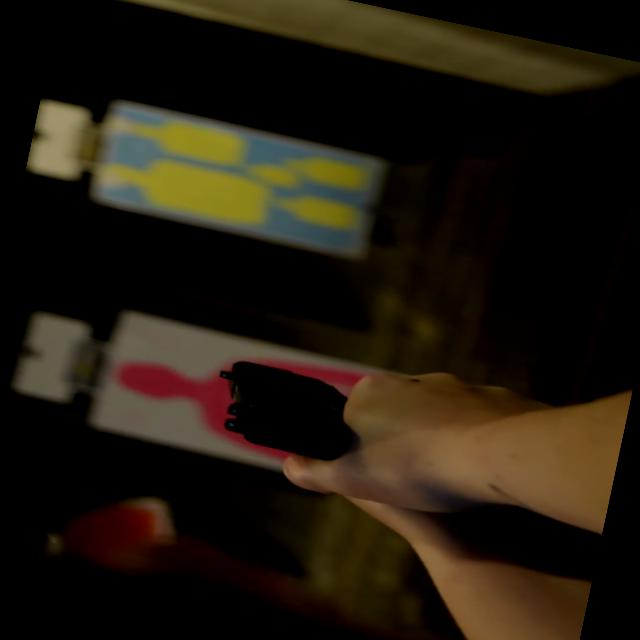handgun: (180, 315, 432, 490)
